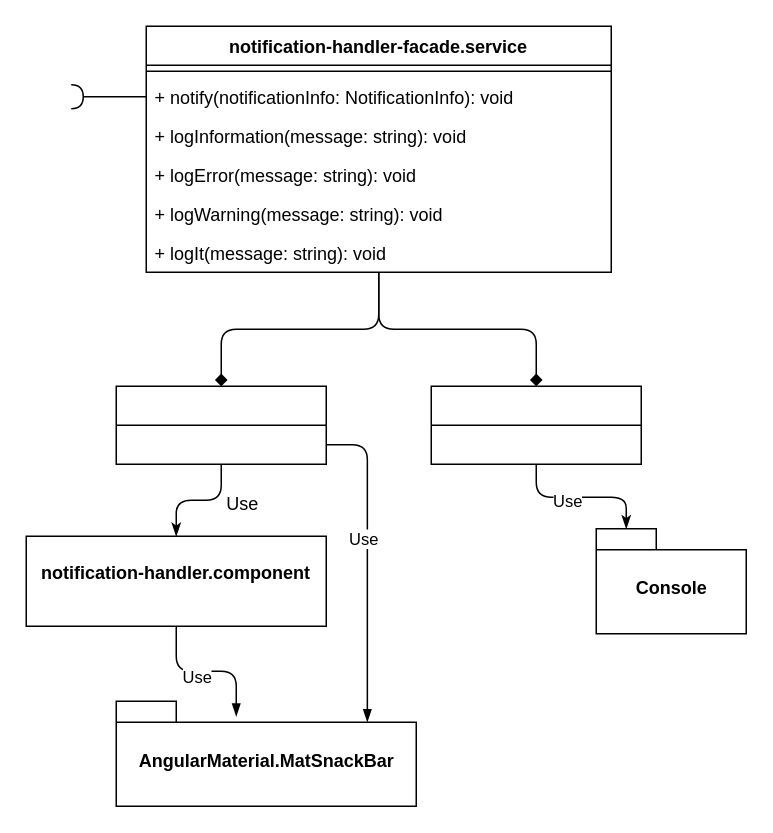
Some shapes in this 773 by 833 pixel diagram are drawn without their labels. The shapes that lost their labels are listed below. From the top down, each one's centre as x and y in pixels, then its label:
At point 220,424: "notify-feature".
At point 535,424: "log-feature".
